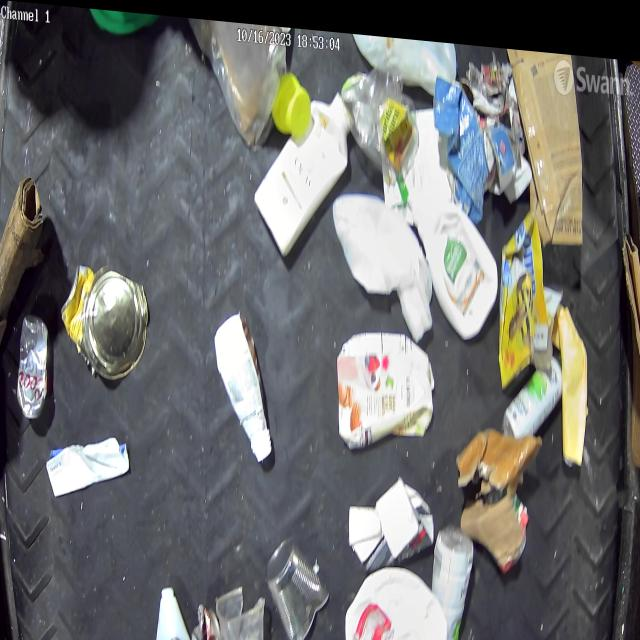can: (61, 261, 149, 381), (267, 533, 331, 640), (192, 601, 222, 640)
milk_jug: (334, 188, 434, 335), (406, 176, 498, 333), (344, 552, 449, 640), (351, 27, 456, 79)
plastic_bottle: (17, 314, 48, 421)
